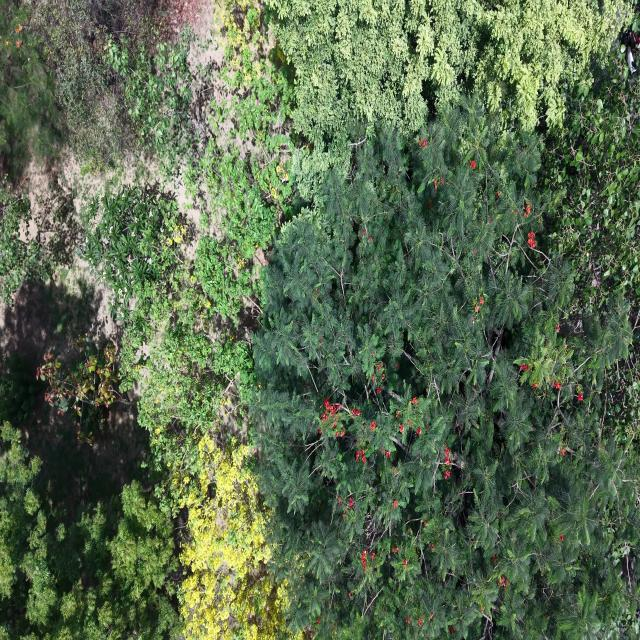DRY_AREA: (0, 150, 148, 520), (0, 147, 158, 380), (20, 382, 148, 519)
VEGETATION_TREE: (0, 0, 639, 639), (253, 101, 639, 638), (85, 4, 292, 639), (108, 3, 293, 317), (267, 0, 628, 152), (0, 337, 181, 639), (138, 306, 285, 639), (0, 423, 180, 639), (544, 43, 639, 425), (187, 3, 293, 317), (31, 0, 184, 172), (545, 47, 639, 309), (2, 3, 128, 173), (181, 437, 287, 639), (82, 186, 191, 341), (31, 0, 128, 170), (103, 30, 200, 174), (0, 0, 59, 181), (37, 335, 121, 444), (0, 182, 50, 303), (0, 353, 39, 424)
